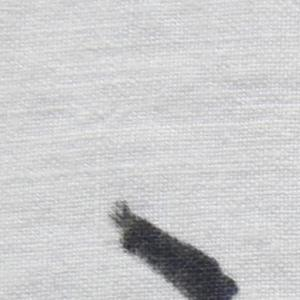Stain: (107, 193, 244, 300)
